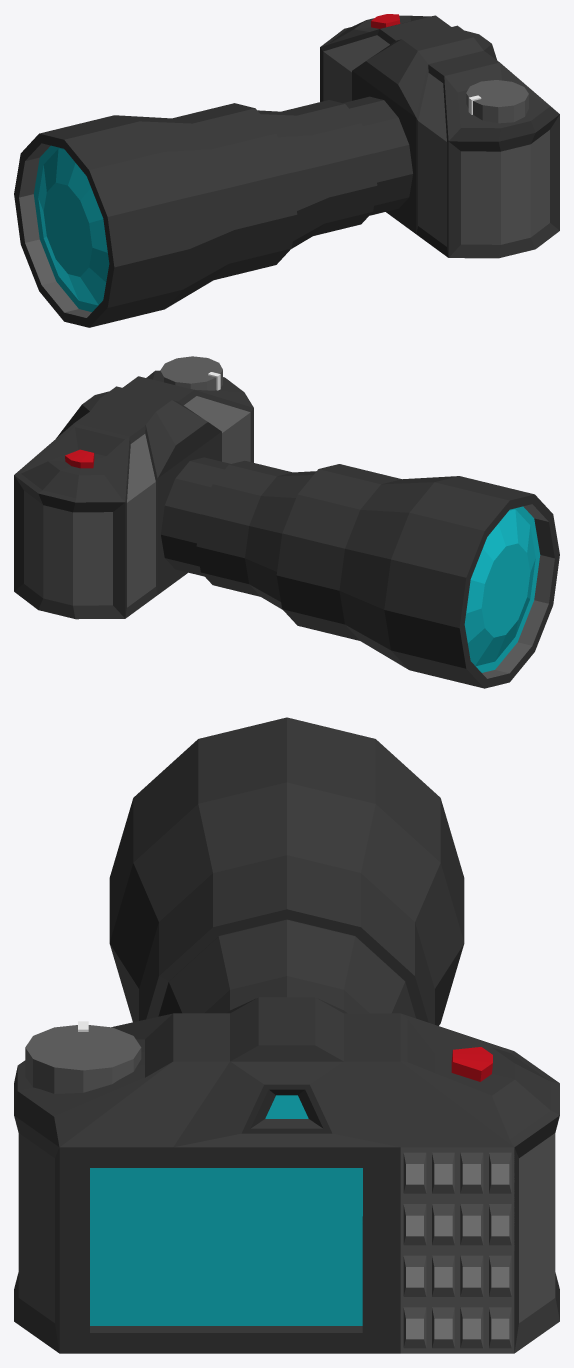
File: Camera.fbx
3 views of the same model, one above another, from view 1: azimuth 30°, elevation 25°; view 2: azimuth 150°, elevation 25°; view 3: azimuth 270°, elevation 25° (orthographic). The views are drawn at different scales.
Parts seen in each view (by area): view 1: Lens 3, Camera, Lens 2, Dial; view 2: Lens 3, Camera, Lens 2, Dial; view 3: Camera, Lens 3, Lens 2, Dial.
Part boxes in pixels (bbox=[...]): Lens 3: bbox=[14, 103, 297, 327]; Camera: bbox=[320, 14, 559, 258]; Lens 2: bbox=[257, 100, 377, 248]; Dial: bbox=[466, 80, 528, 123]; Lens 3: bbox=[276, 464, 559, 688]; Camera: bbox=[14, 370, 253, 619]; Lens 2: bbox=[196, 460, 316, 609]; Dial: bbox=[160, 356, 222, 390]; Camera: bbox=[14, 997, 559, 1353]; Lens 3: bbox=[109, 717, 464, 1025]; Lens 2: bbox=[158, 919, 415, 1018]; Dial: bbox=[25, 1021, 141, 1093].
Bounding box in the file's own units: 777 × 330 × 480.
